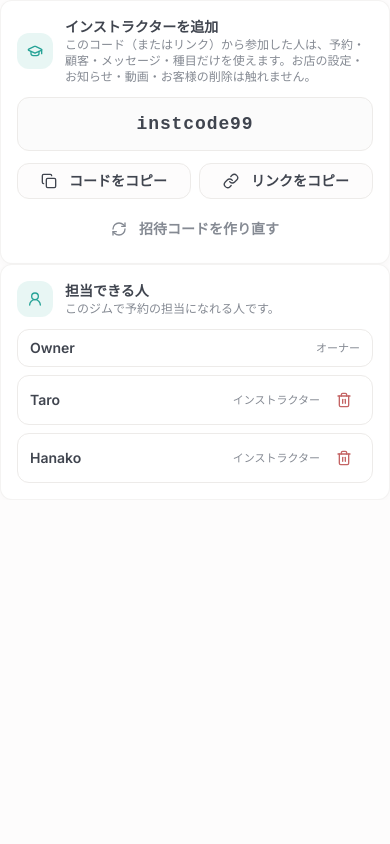
Test: スタッフ管理（TrainerStaffManager・オーナー） › インストラクターの招待コードを作り直せる（確かめてから）
This screenshot has width=390, height=844.
Check: the element with test id "staff-invite-instructor" is shown, box [0,0,389,264]
Click the button "招待コードを作り直す" at (195, 229), box [17,211,373,247]
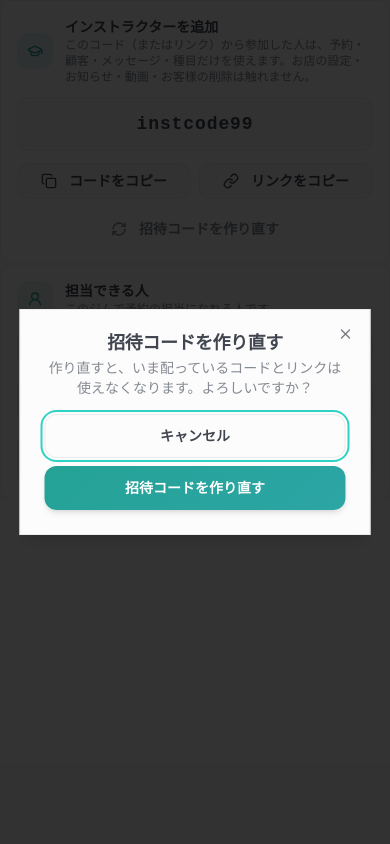
Click the button "招待コードを作り直す" at (195, 488), box [44,466,346,510]
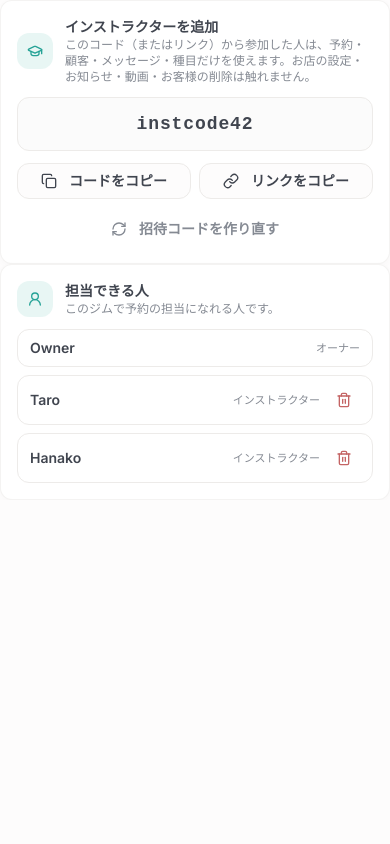
Check: the text "instcode42" is shown, box [17,97,373,151]
